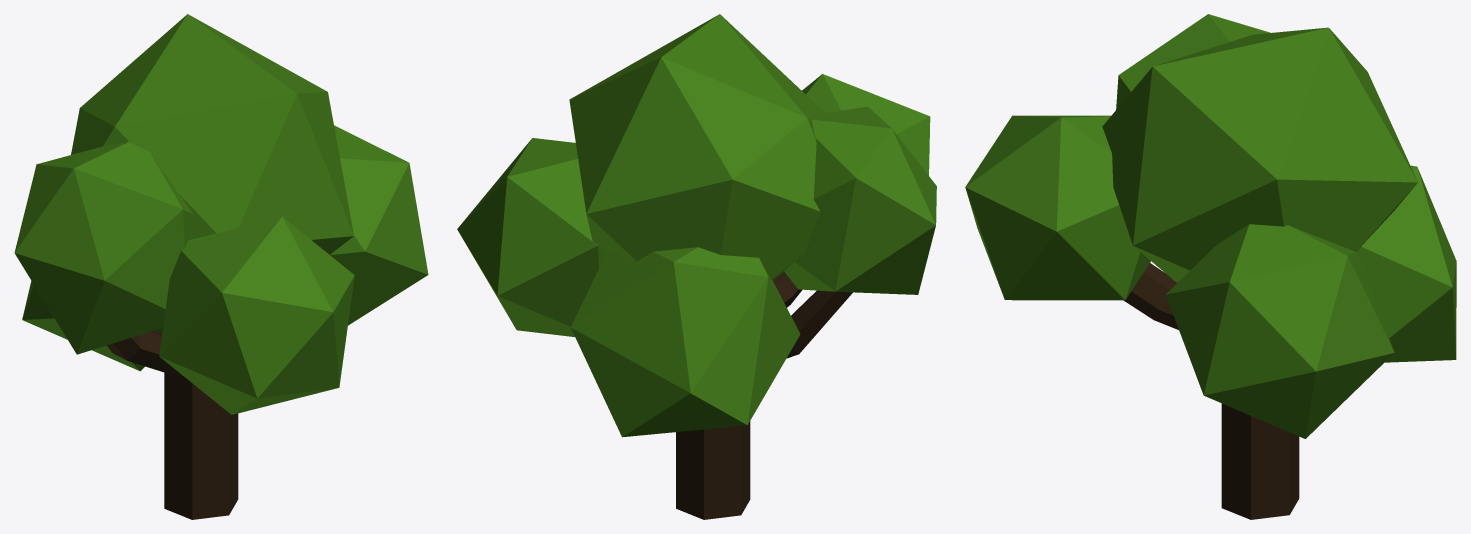
The model's file is Boum_3.fbx.
3 views of the same model, side by side, from view 1: azimuth 30°, elevation 25°; view 2: azimuth 150°, elevation 25°; view 3: azimuth 270°, elevation 25° (orthographic). The views are drawn at different scales.
Parts seen in each view (by area): view 1: Bom_3; view 2: Bom_3; view 3: Bom_3.
Part boxes in pixels (x1,y1,x2,y2): Bom_3: (14,14,428,519); Bom_3: (457,14,936,519); Bom_3: (965,14,1456,519).
Bounding box in the file's own units: 1.05 × 1.08 × 0.9905.
